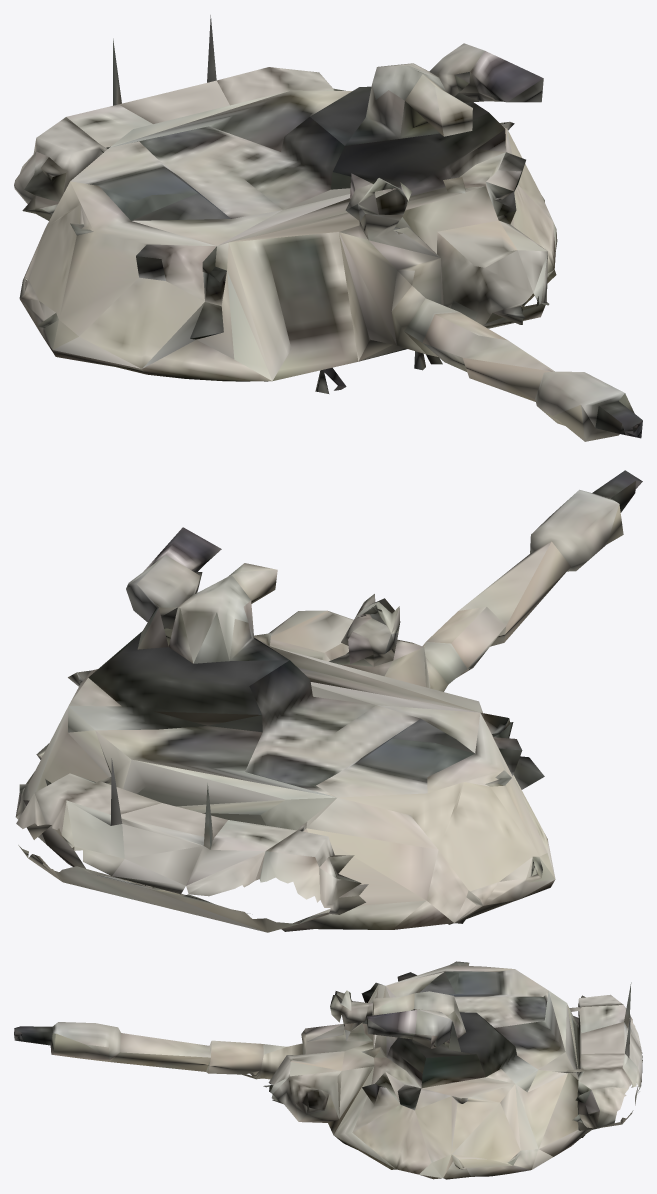
Rendered from t94_bulldog_tur_lod1.glb.
3 renders of one model, top to bottom at view 1: azimuth 30°, elevation 25°; view 2: azimuth 150°, elevation 25°; view 3: azimuth 270°, elevation 25°, orthographic. The views are drawn at different scales.
Bounding box in the file's own units: 1.93 × 0.9113 × 3.18.
1 material, 1 textured.
